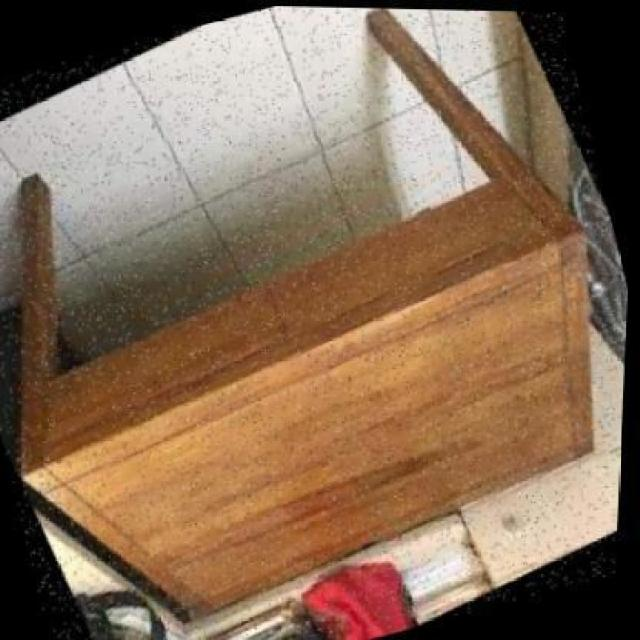tables: (0, 3, 626, 639)
